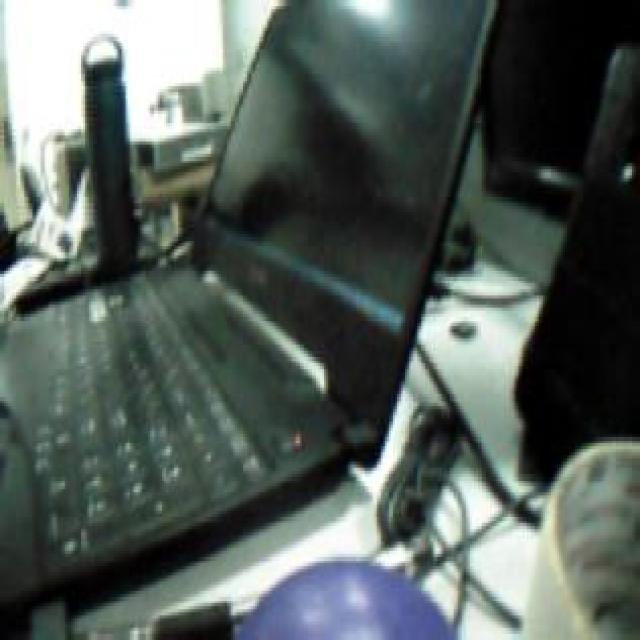BallPurple: (237, 557, 459, 640)
